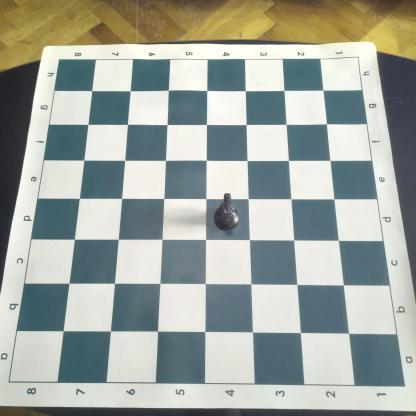black-knight: (212, 192, 241, 233)
